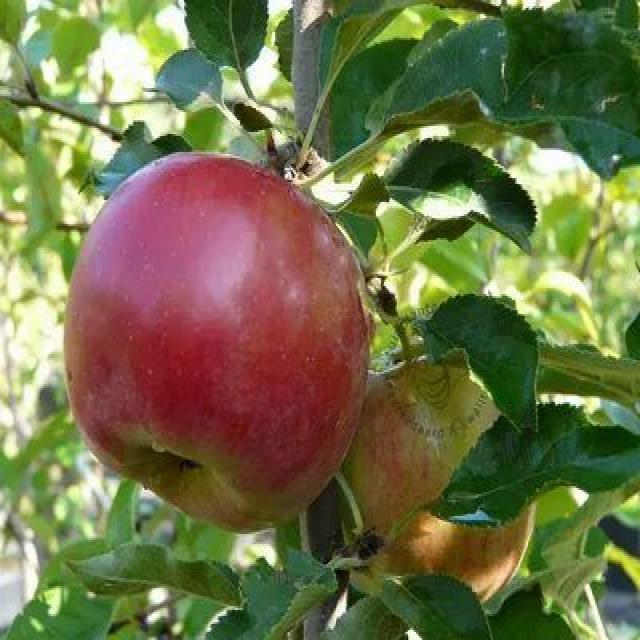Fresh Apple: (74, 155, 384, 505)
